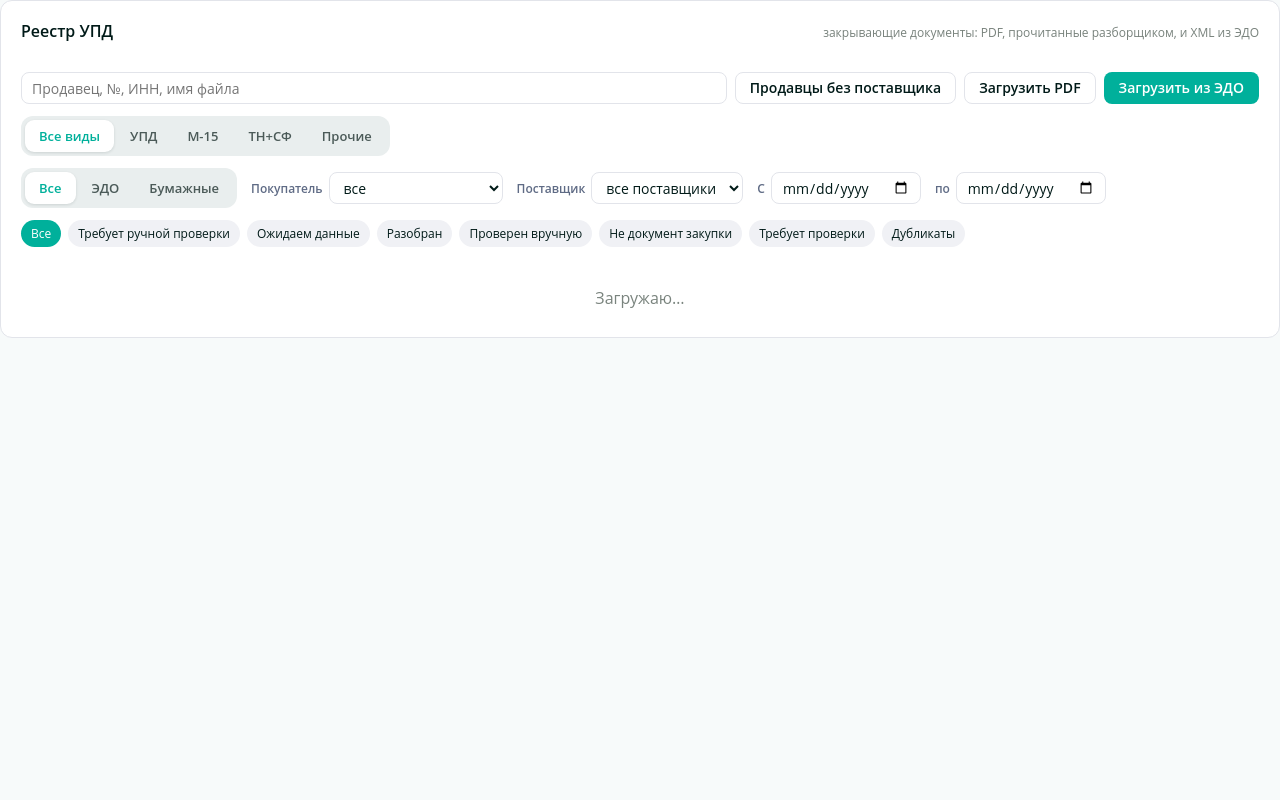
it: «Продавцы без поставщика» previews the names and creates the chosen suppliers
Click the button "Продавцы без поставщика" at (845, 88), box 735,72 -> 956,104
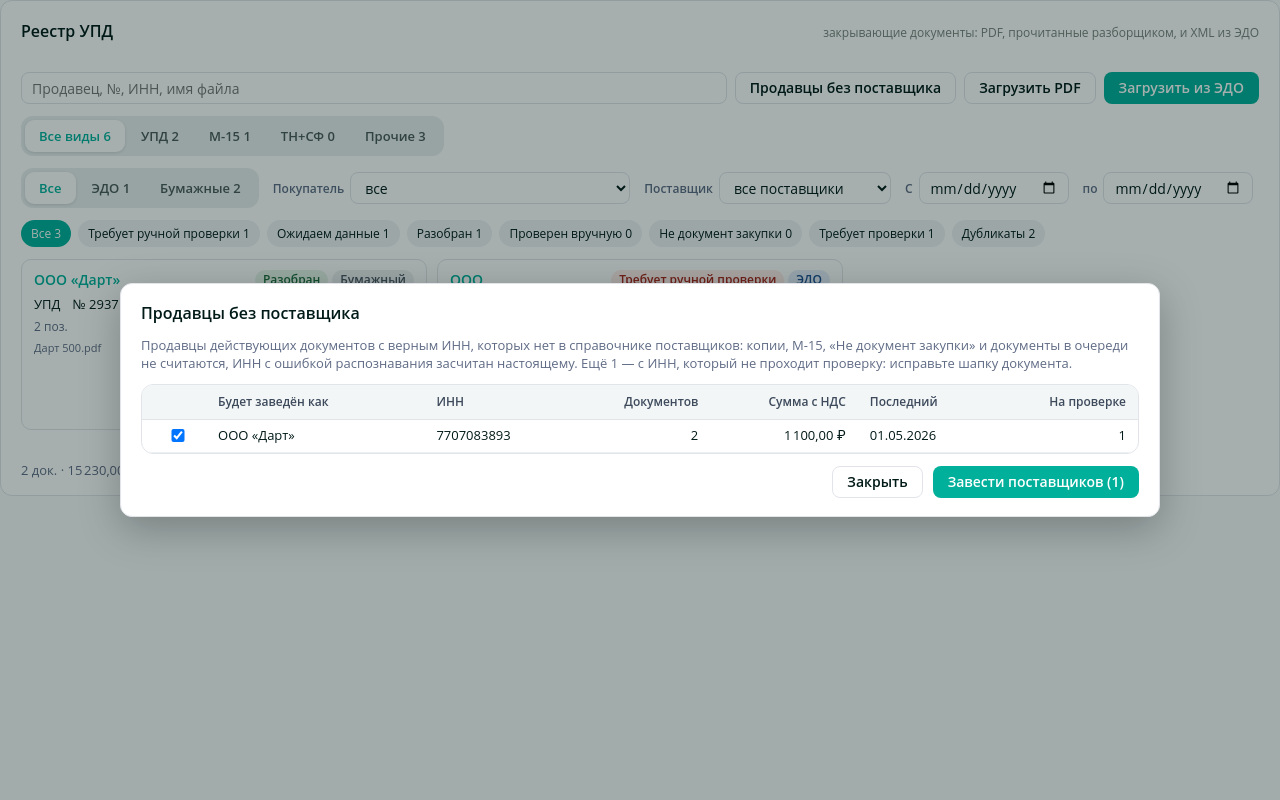
Result: the table named "Продавцы без поставщика" shows "7707083893" at 436,426 -> 511,444
Result: the dialog "Продавцы без поставщика" shows "Ещё 1 — с ИНН, который не проходит проверку" at 578,354 -> 1072,372
Click the button "Завести поставщиков (1)" at (1036, 482), box 933,466 -> 1139,498
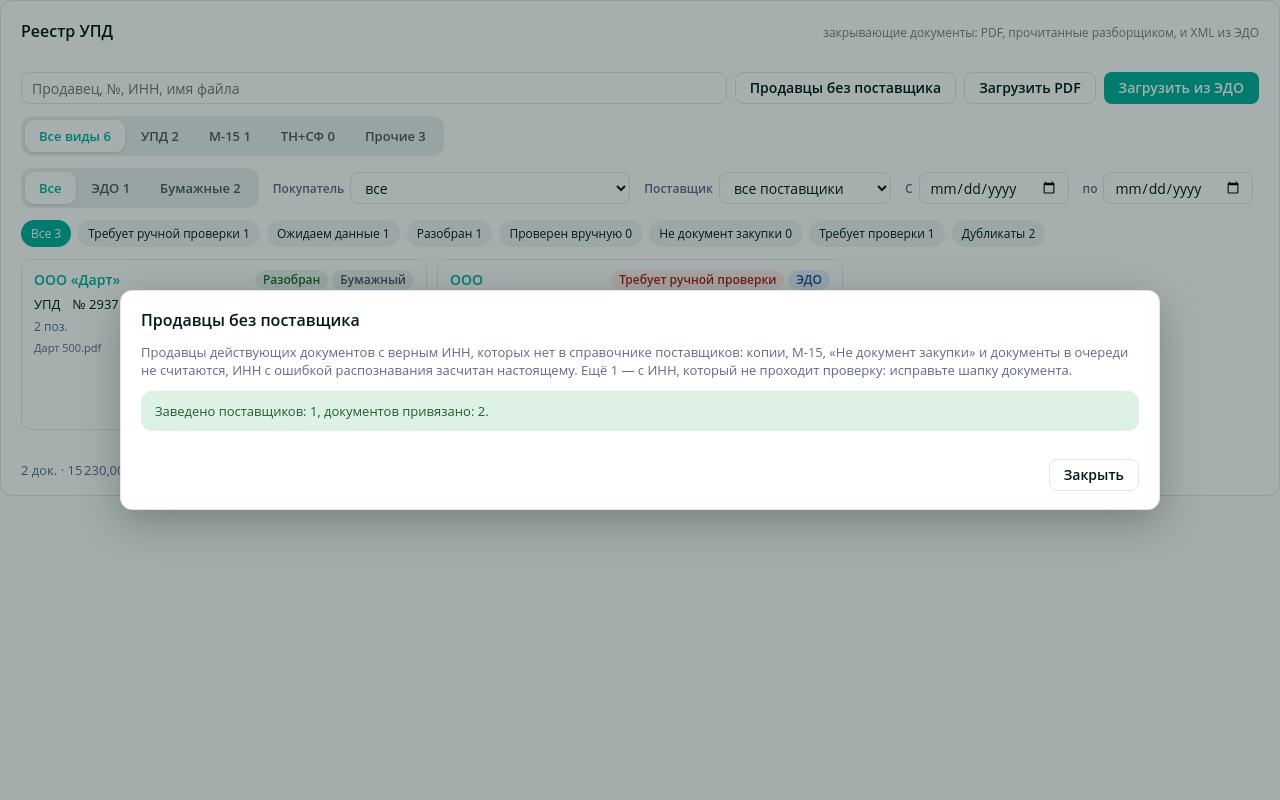
Result: the text "Заведено поставщиков: 1, документов привязано: 2." is shown at 141,391 -> 1139,431
